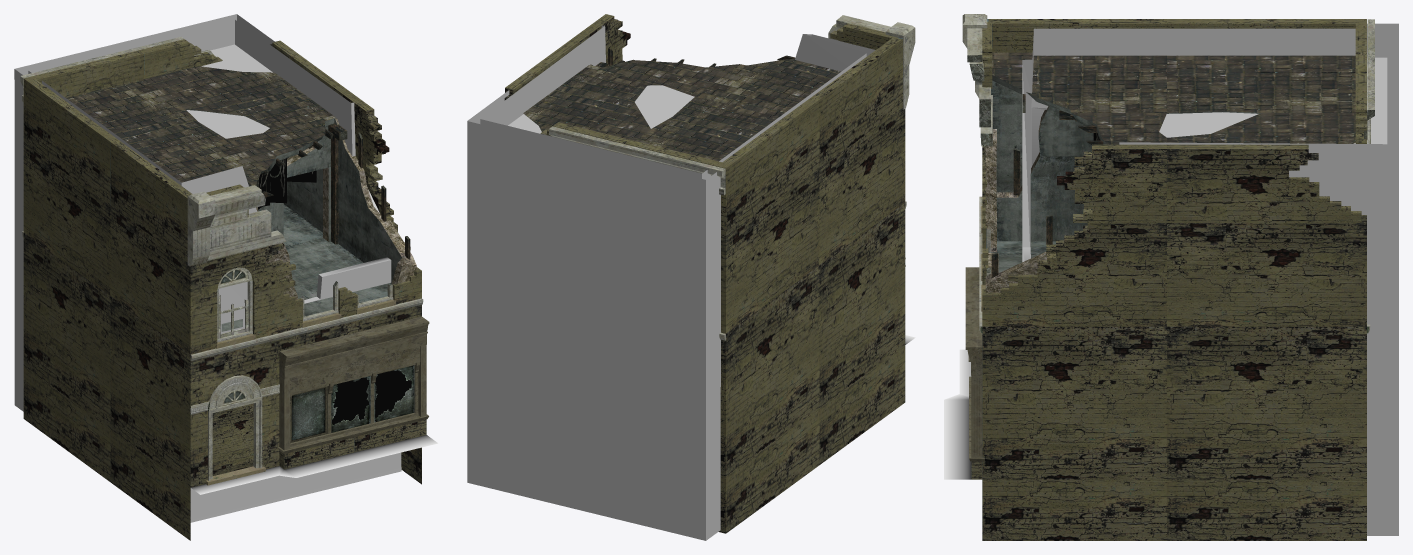
File: RowHouse04.FBX
The picture shows the model from 3 angles, left to right: view 1: azimuth 30°, elevation 25°; view 2: azimuth 150°, elevation 25°; view 3: azimuth 270°, elevation 25°; orthographic projection. The views are drawn at different scales.
Visible parts, largest first — view 1: RowHouse04:13, RowHouse04:7, RowHouse04_lod:0, RowHouse04:34, RowHouse04:14, RowHouse04:12; view 2: RowHouse04_lod:0, RowHouse04:13, RowHouse04:7; view 3: RowHouse04:13, RowHouse04:7, RowHouse04_lod:0, RowHouse04:14, RowHouse04:12.
Boxes of the visible parts, x1=… form: RowHouse04:13: x1=23, y1=39, x2=426, y2=540; RowHouse04:7: x1=20, y1=36, x2=429, y2=485; RowHouse04_lod:0: x1=14, y1=14, x2=401, y2=522; RowHouse04:34: x1=257, y1=157, x2=414, y2=432; RowHouse04:14: x1=191, y1=435, x2=437, y2=494; RowHouse04:12: x1=261, y1=123, x2=410, y2=259; RowHouse04_lod:0: x1=467, y1=25, x2=875, y2=540; RowHouse04:13: x1=504, y1=14, x2=905, y2=533; RowHouse04:7: x1=523, y1=15, x2=915, y2=340; RowHouse04:13: x1=971, y1=19, x2=1366, y2=540; RowHouse04:7: x1=962, y1=14, x2=1374, y2=461; RowHouse04_lod:0: x1=1022, y1=23, x2=1398, y2=535; RowHouse04:14: x1=944, y1=349, x2=971, y2=479; RowHouse04:12: x1=991, y1=94, x2=1103, y2=277.
Size of the model in its own units: 646 by 913 by 946.
